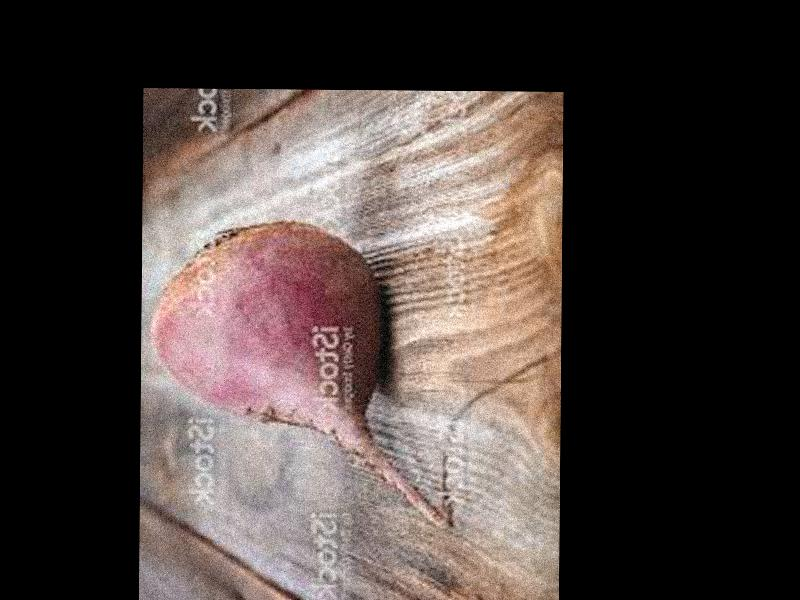Beet: (149, 220, 452, 531)
